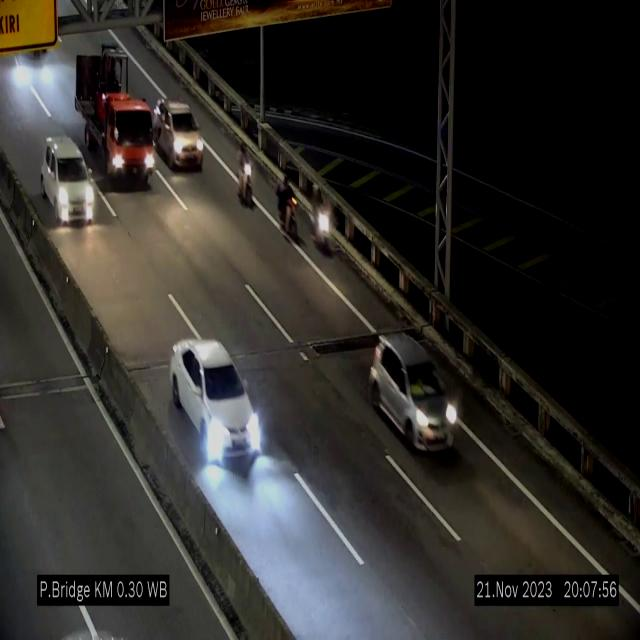Car: (170, 340, 262, 468), (368, 332, 454, 451), (41, 137, 89, 230), (152, 99, 204, 169)
Motorcycle: (274, 170, 300, 246), (312, 186, 335, 258), (238, 144, 254, 208)
Truck: (73, 39, 156, 184)
